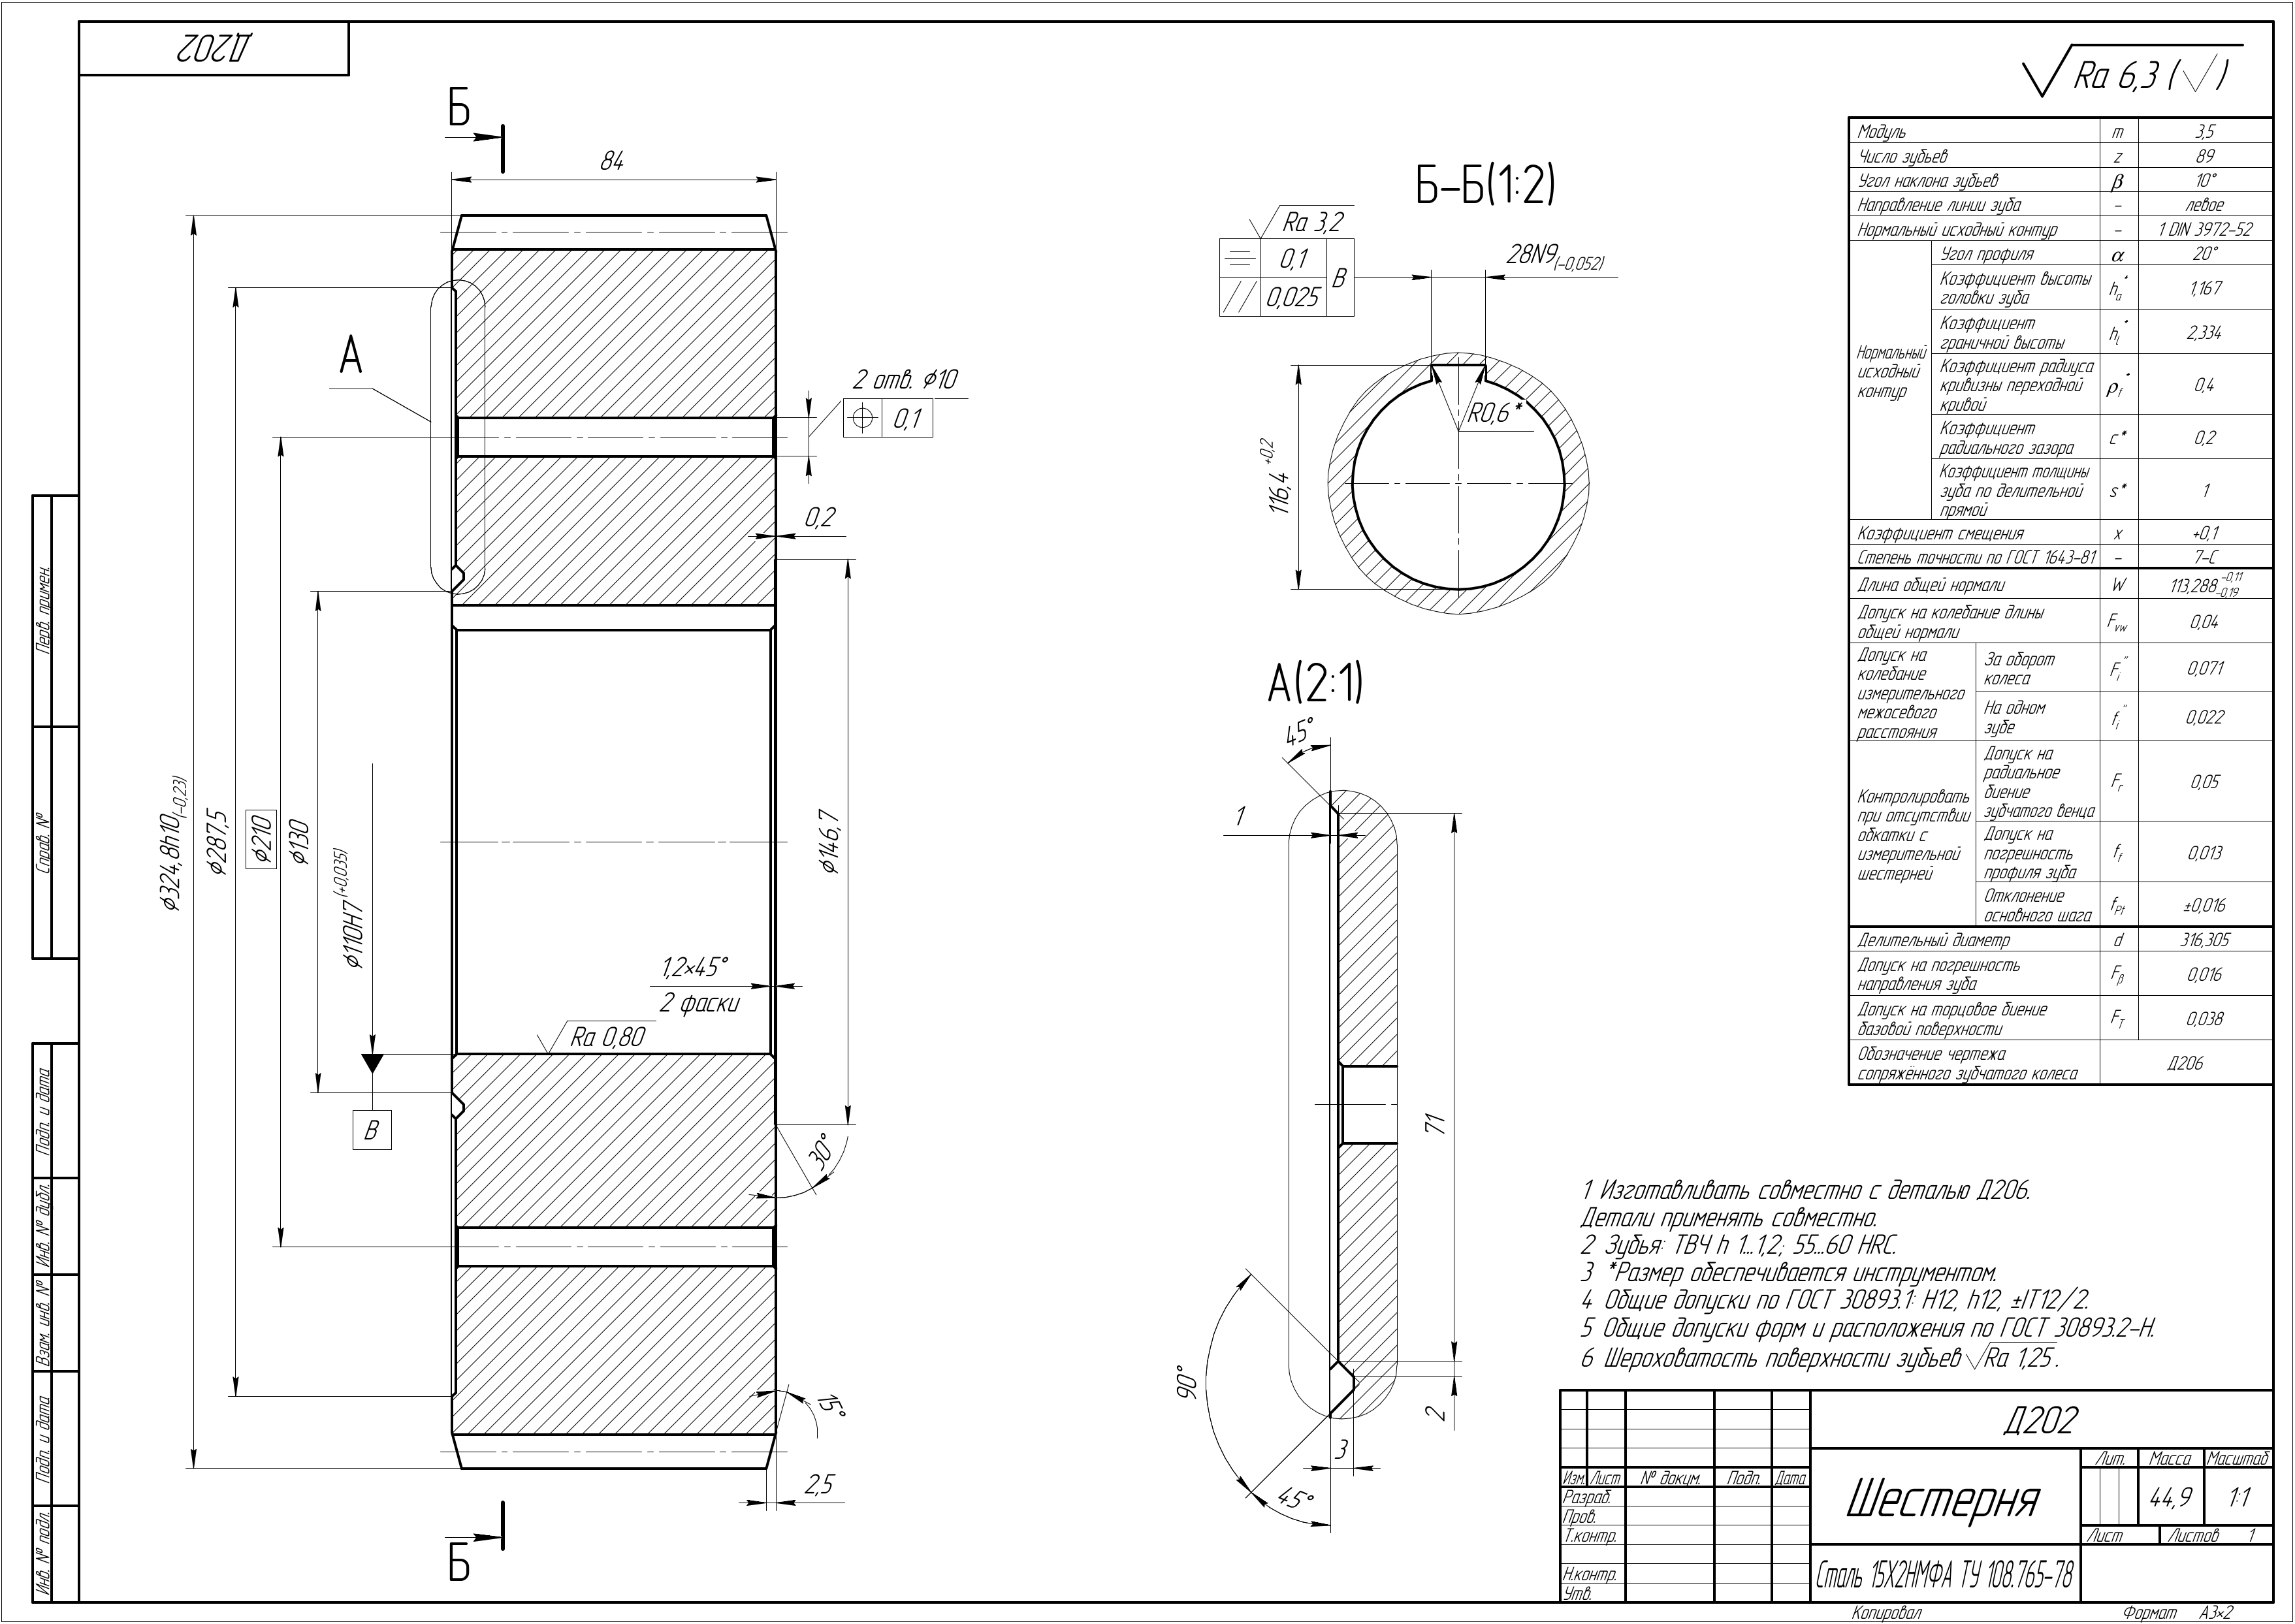Диаметральный размер: (146, 202, 199, 1480), (193, 274, 241, 1397), (239, 427, 285, 1255), (810, 548, 861, 1130), (285, 580, 325, 1104), (329, 759, 376, 1060), (917, 360, 970, 401)
Допуск: (330, 845, 366, 930), (1529, 239, 1606, 274), (156, 773, 190, 849)
Линейный размер: (1416, 796, 1467, 1367), (1353, 228, 1629, 283), (1253, 355, 1311, 601), (446, 144, 780, 185), (1216, 800, 1369, 847), (722, 1471, 849, 1522), (1415, 1353, 1476, 1427), (749, 503, 847, 541), (1302, 1436, 1378, 1476)
Общая шероховатость: (2016, 32, 2256, 114)
Таблица параметров: (1838, 107, 2281, 1093)
Технические требования: (1569, 1162, 2172, 1374)
Угловой размер: (1172, 1258, 1262, 1510), (745, 1118, 859, 1207), (1237, 1455, 1334, 1538), (1279, 714, 1348, 821), (745, 1378, 852, 1439)
Фаска: (643, 946, 801, 1019), (647, 947, 803, 993)
Шероховатость: (527, 1014, 664, 1058), (1246, 199, 1358, 241)
